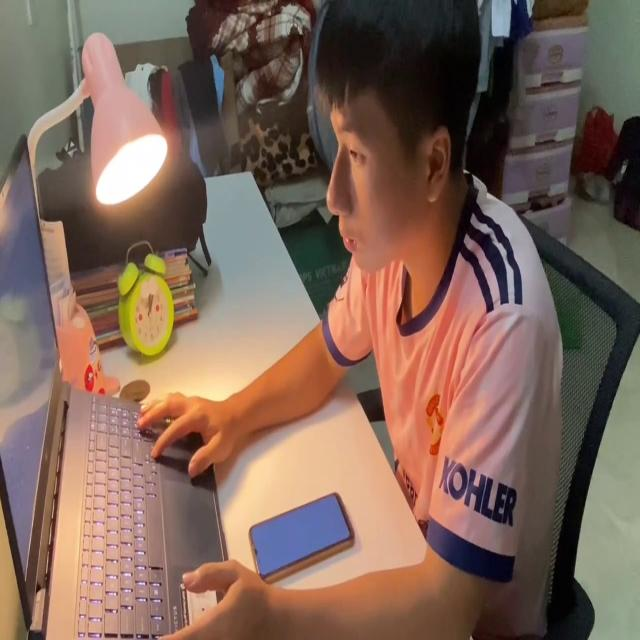laptop: (0, 129, 238, 640)
phone: (246, 487, 358, 588)
student: (128, 2, 564, 640)
